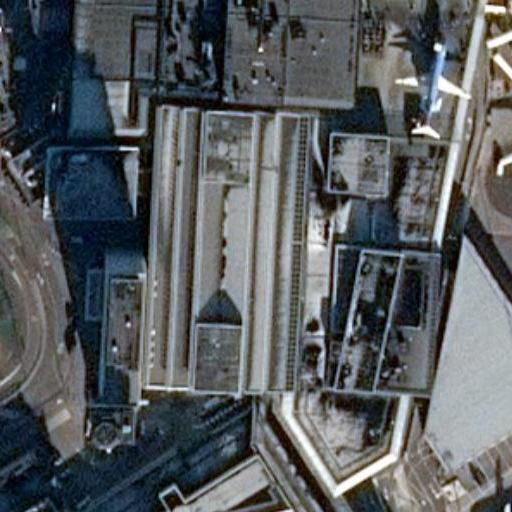Aircraft: (390, 38, 469, 138), (495, 71, 512, 227)
